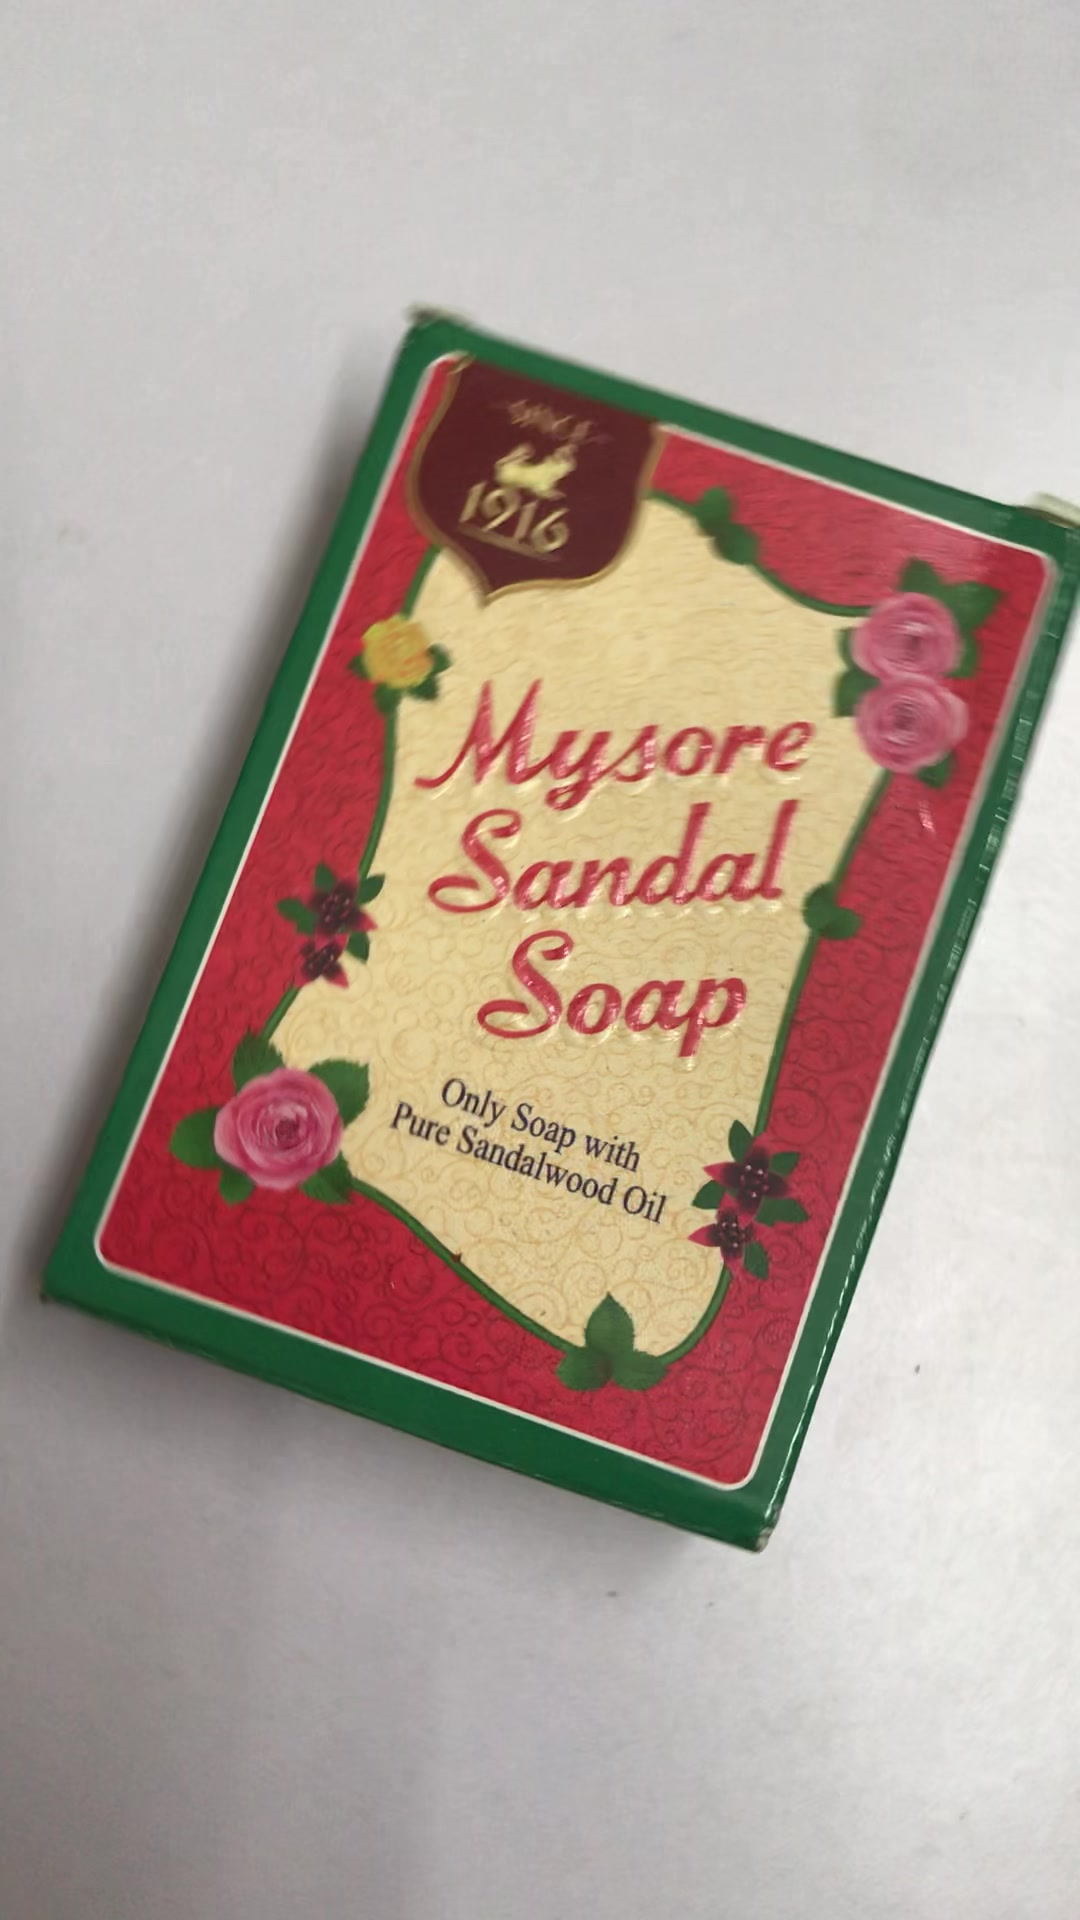mysore sandal soap: (44, 316, 1080, 1549)
